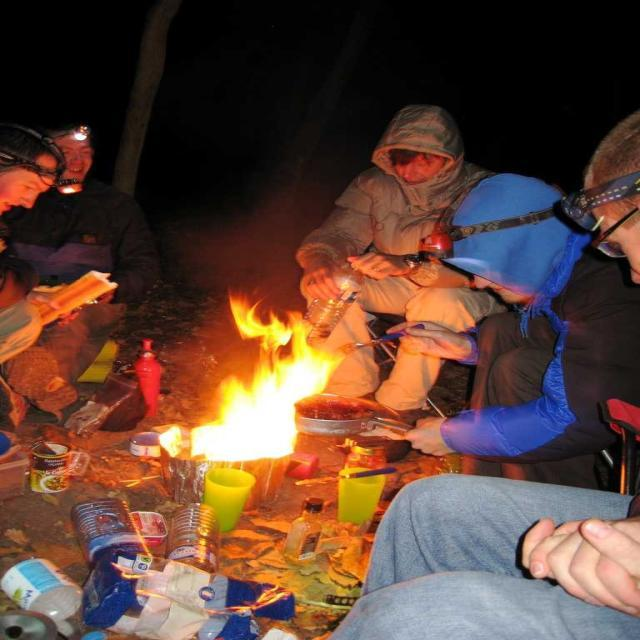Fire: (210, 400, 290, 460), (264, 367, 316, 395)
